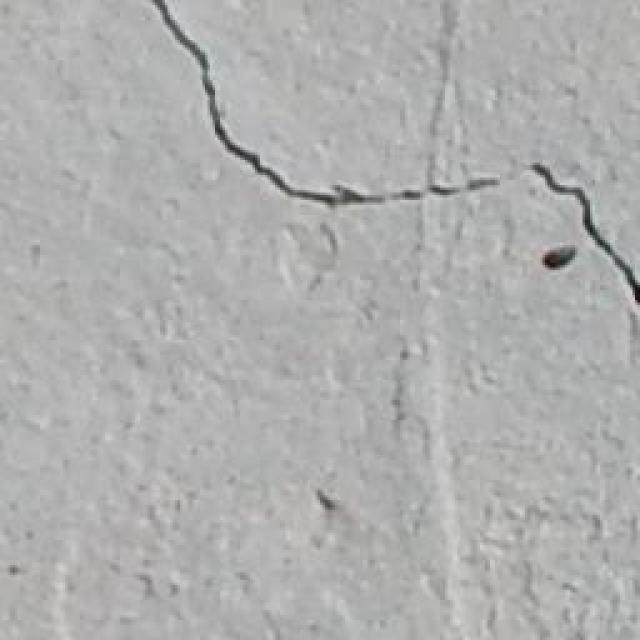Crack: (152, 0, 498, 205), (532, 162, 638, 302)
